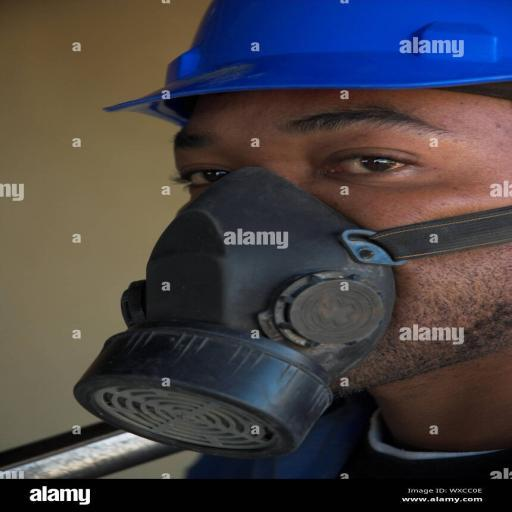mask: (74, 152, 378, 457)
